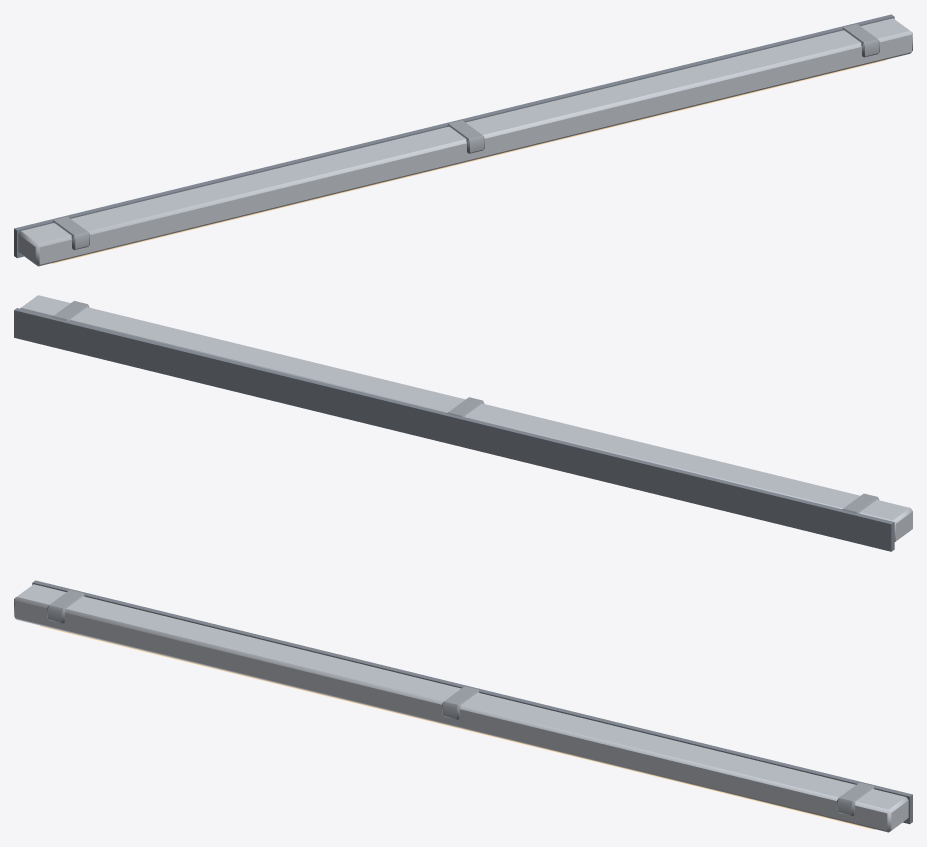
The model's file is striplight_cove_strip_warm.glb.
The picture shows the model from 3 angles, top to bottom: view 1: azimuth 30°, elevation 25°; view 2: azimuth 150°, elevation 25°; view 3: azimuth 330°, elevation 25°; orthographic projection.
Visible parts, largest first — view 1: striplight_cove_strip_warm; view 2: striplight_cove_strip_warm; view 3: striplight_cove_strip_warm.
Part boxes in pixels (box(x1,y1,x2,y2)): striplight_cove_strip_warm: box(14, 14, 912, 266); striplight_cove_strip_warm: box(14, 295, 912, 551); striplight_cove_strip_warm: box(14, 580, 912, 832).
Bounding box in the file's own units: 2 × 0.065 × 0.096.
